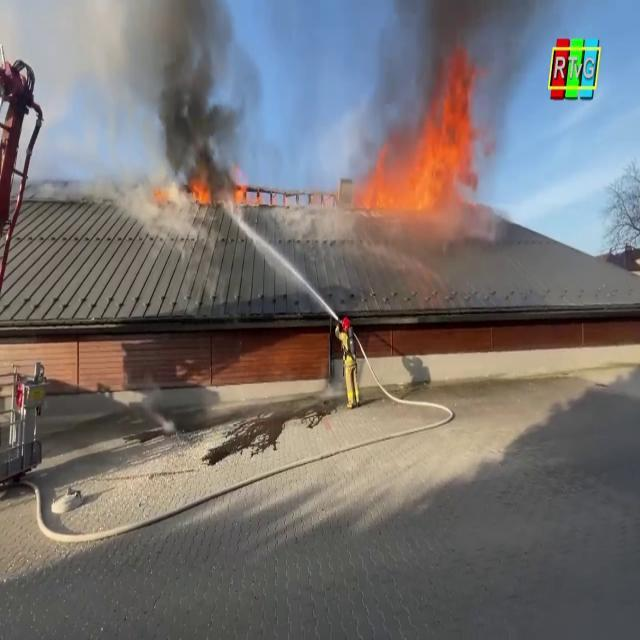Fire: (352, 66, 490, 226), (188, 175, 214, 208)
Smoke: (0, 0, 259, 204), (356, 0, 542, 154)
